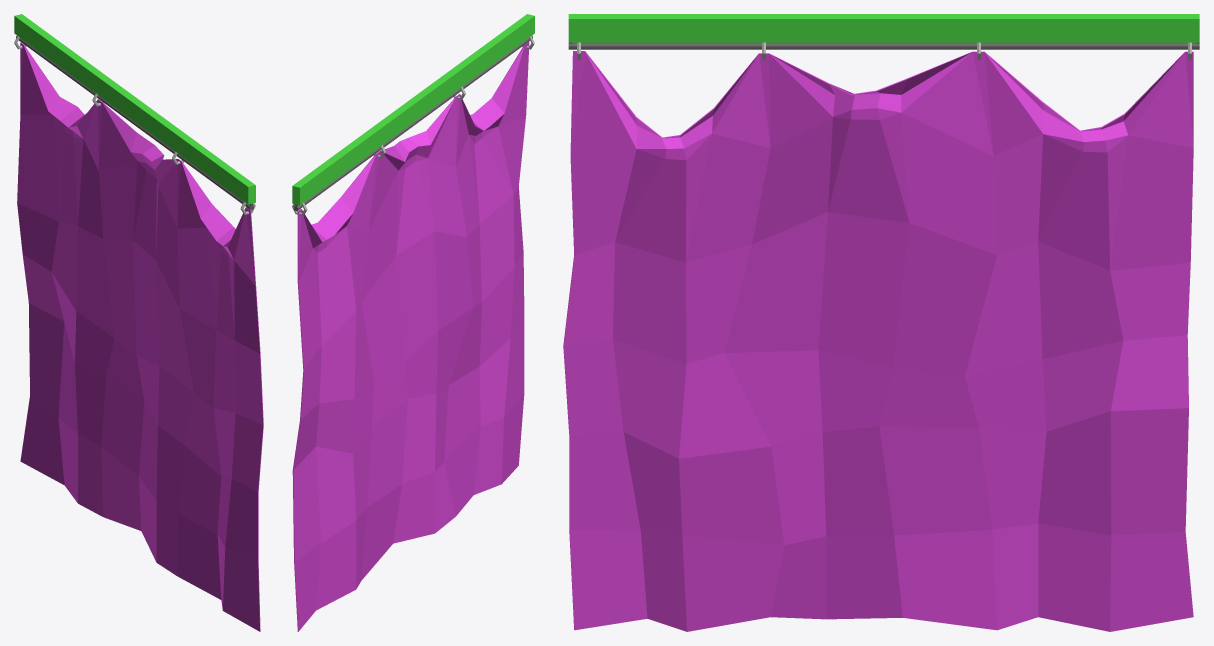
The model's file is Curtain_01_A.fbx.
The picture shows the model from 3 angles, left to right: view 1: azimuth 30°, elevation 25°; view 2: azimuth 150°, elevation 25°; view 3: azimuth 270°, elevation 25°; orthographic projection. The views are drawn at different scales.
Visible parts, largest first — view 1: Curtain_01_A; view 2: Curtain_01_A; view 3: Curtain_01_A.
Boxes of the visible parts, box(x1,y1,x2,y2) form: Curtain_01_A: box(14, 14, 263, 631); Curtain_01_A: box(292, 14, 534, 631); Curtain_01_A: box(563, 14, 1199, 631).
Bounding box in the file's own units: 34.93 × 485 × 461.
